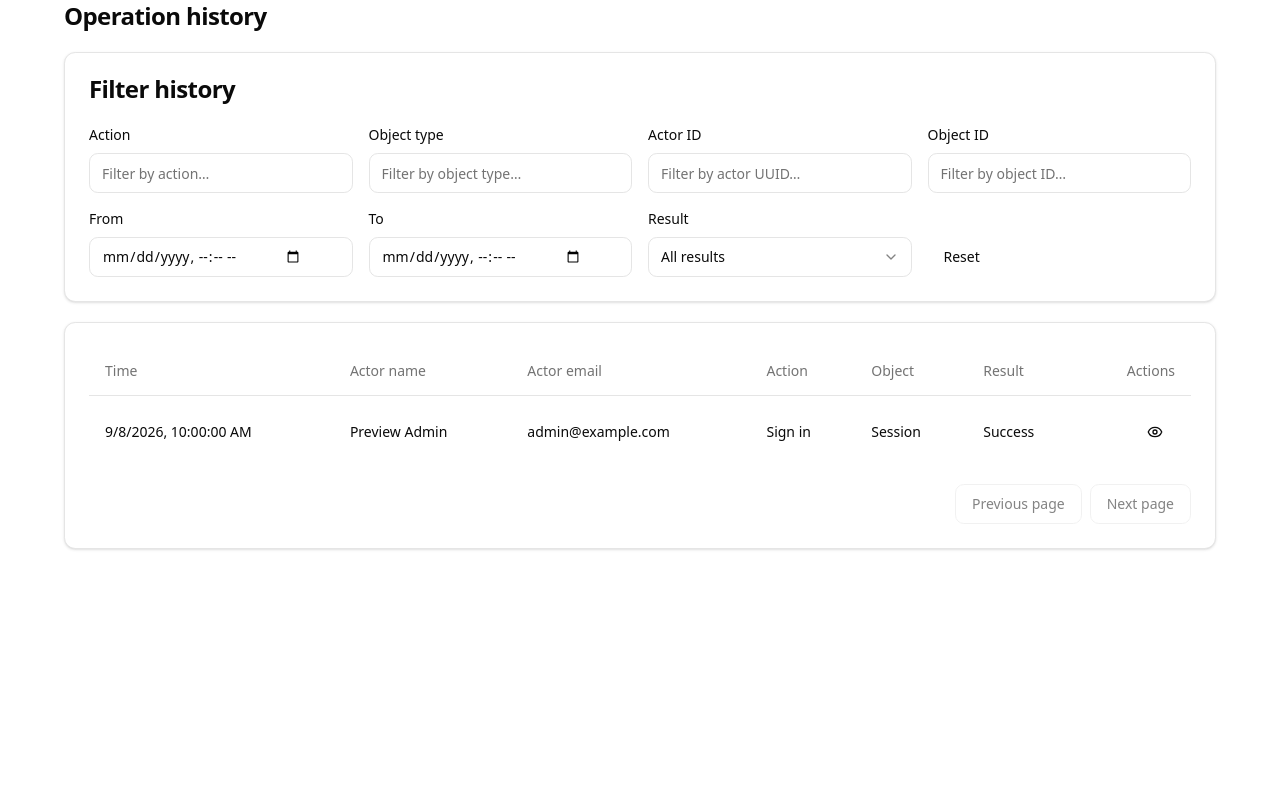
readable operation details › separates name and email and explains a login without irrelevant fields
The image size is (1280, 800).
Click the button named "View operation details".
click(1155, 432)  # box [1135, 412, 1175, 452]
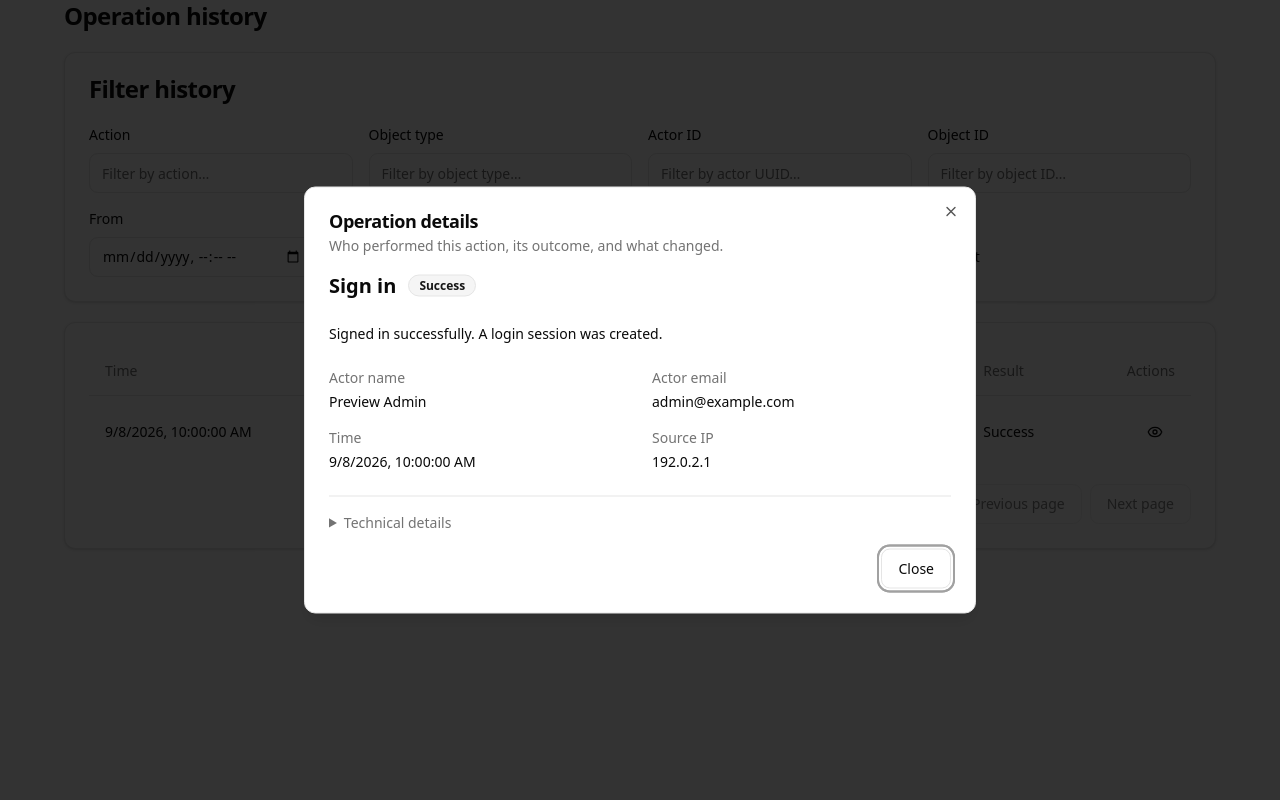
Expected: the column heading "Actor name" is shown, [334, 347, 511, 395]
Expected: the text "Signed in successfully. A login session was created." is shown, [329, 324, 662, 342]
